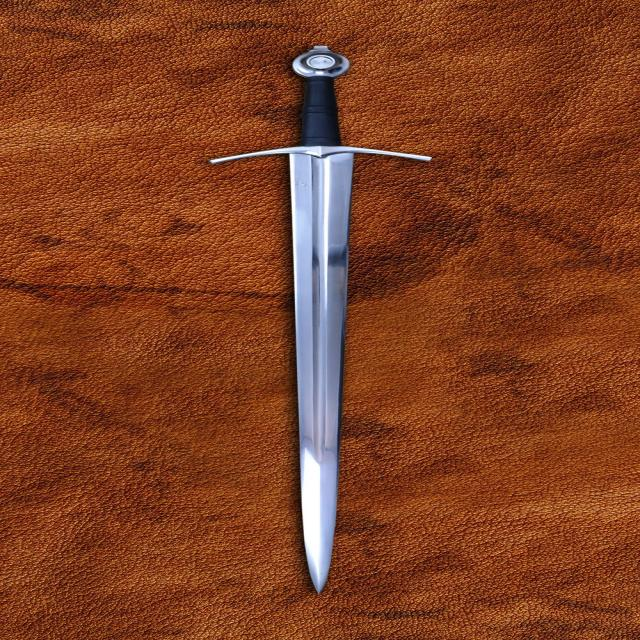weapon: (215, 37, 434, 603)
